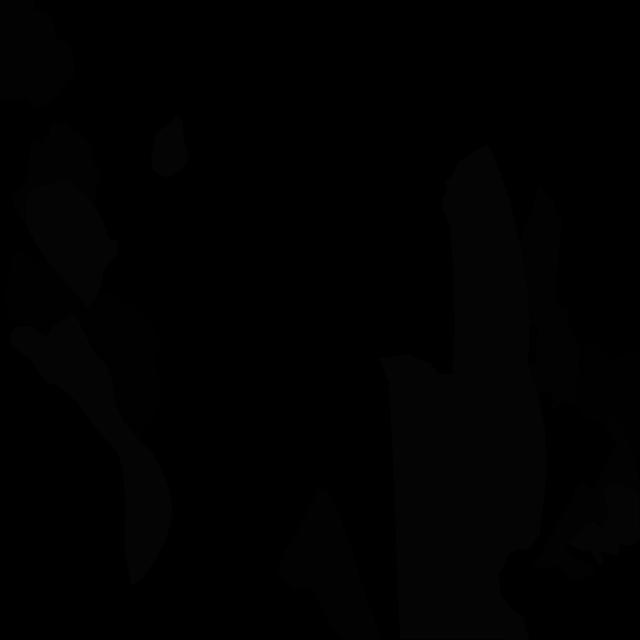cardboard: (531, 416, 640, 580), (276, 488, 382, 640), (520, 185, 580, 412), (11, 122, 101, 223), (0, 0, 76, 108), (528, 330, 552, 391)
rigid_plastic: (4, 250, 162, 439), (577, 340, 640, 483)
soft_plastic: (379, 189, 547, 640), (10, 315, 172, 585), (26, 180, 118, 308), (568, 483, 640, 565), (445, 144, 509, 203), (151, 113, 189, 178)
